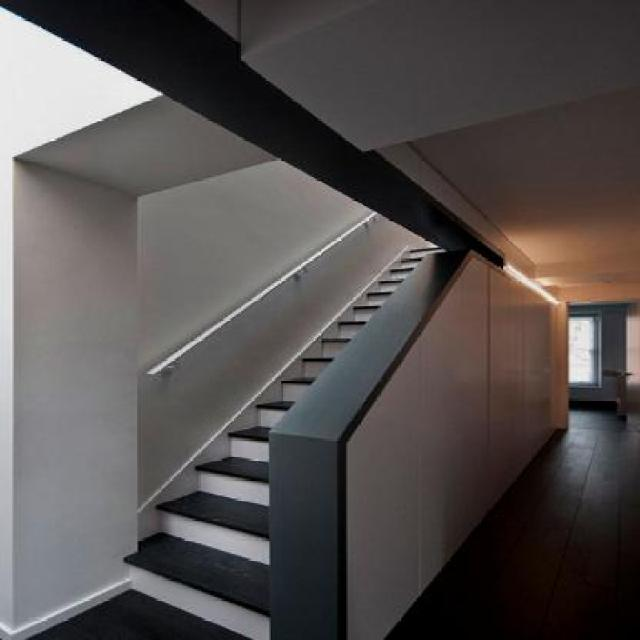stair: (91, 163, 483, 639)
